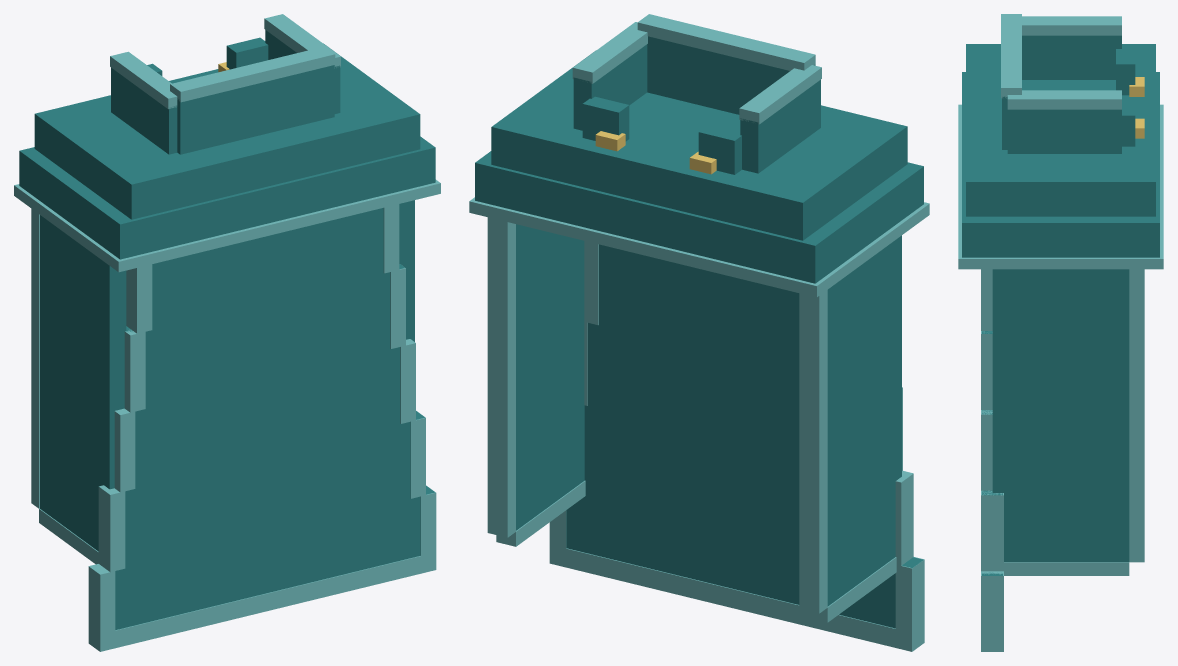
Rendered from capa_com_gola.glb.
3 views of the same model, side by side, from view 1: azimuth 30°, elevation 25°; view 2: azimuth 150°, elevation 25°; view 3: azimuth 270°, elevation 25° (orthographic). The views are drawn at different scales.
Visible parts, largest first — view 1: capa_com_gola; view 2: capa_com_gola; view 3: capa_com_gola.
Boxes of the visible parts, x1,y1,x2,y2 form: capa_com_gola: [14, 14, 440, 651]; capa_com_gola: [469, 14, 929, 651]; capa_com_gola: [958, 14, 1163, 651].
Size of the model in its own units: 1 by 1.51 by 0.54.
